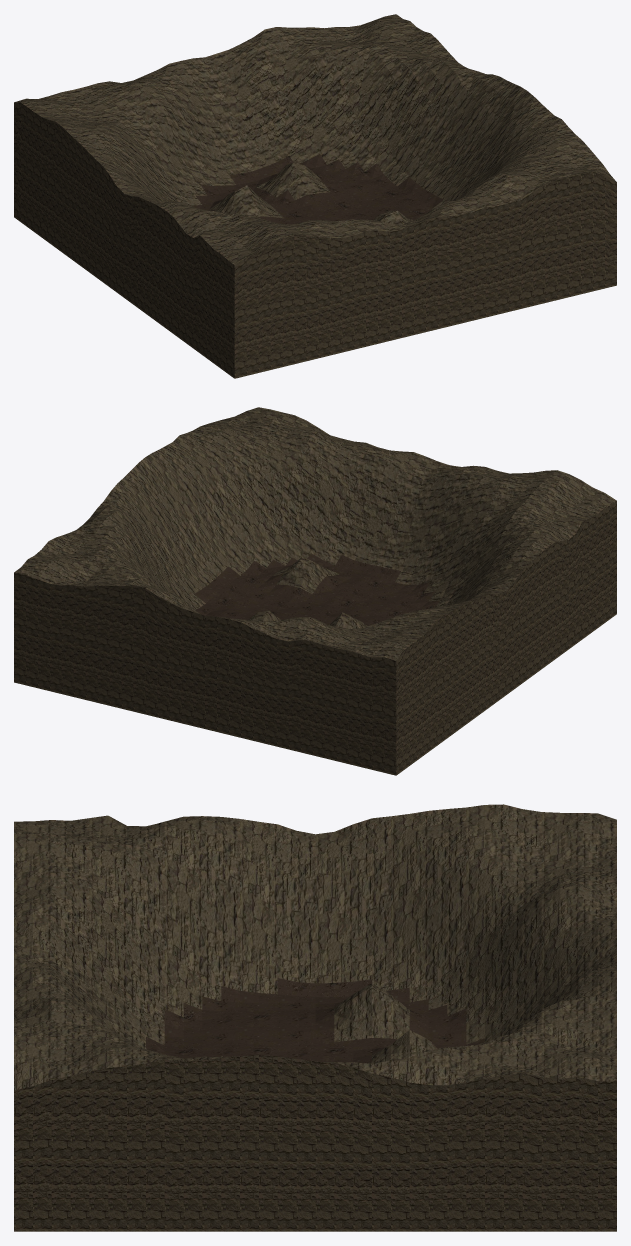
The model's file is cave_floor_01.glb.
3 views of the same model, one above another, from view 1: azimuth 30°, elevation 25°; view 2: azimuth 150°, elevation 25°; view 3: azimuth 270°, elevation 25° (orthographic). The views are drawn at different scales.
Visible parts, largest first — view 1: cave_floor_01; view 2: cave_floor_01; view 3: cave_floor_01.
Part boxes in pixels (<box>): cave_floor_01: <box>14,14,616,378</box>; cave_floor_01: <box>14,407,616,775</box>; cave_floor_01: <box>14,804,616,1231</box>.
Size of the model in its own units: 16 by 5.18 by 16.
Materials: 3 (3 with a texture image).
